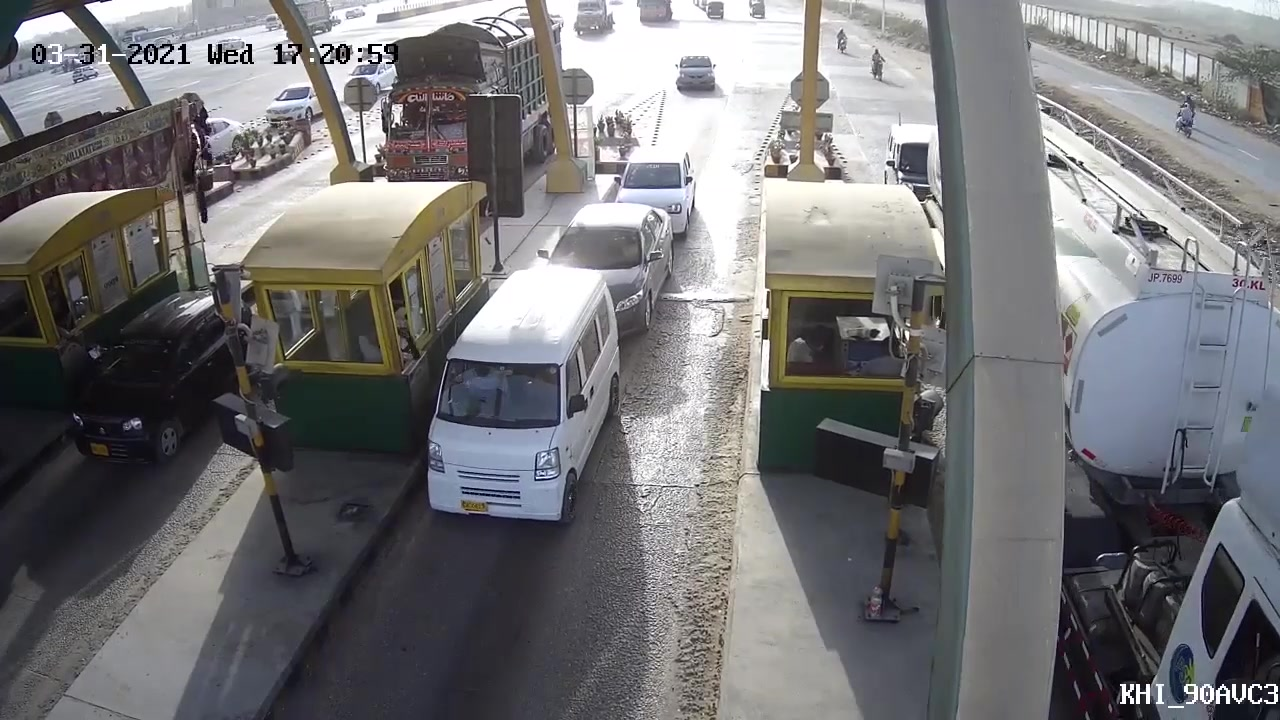F1: (426, 272, 624, 527)
